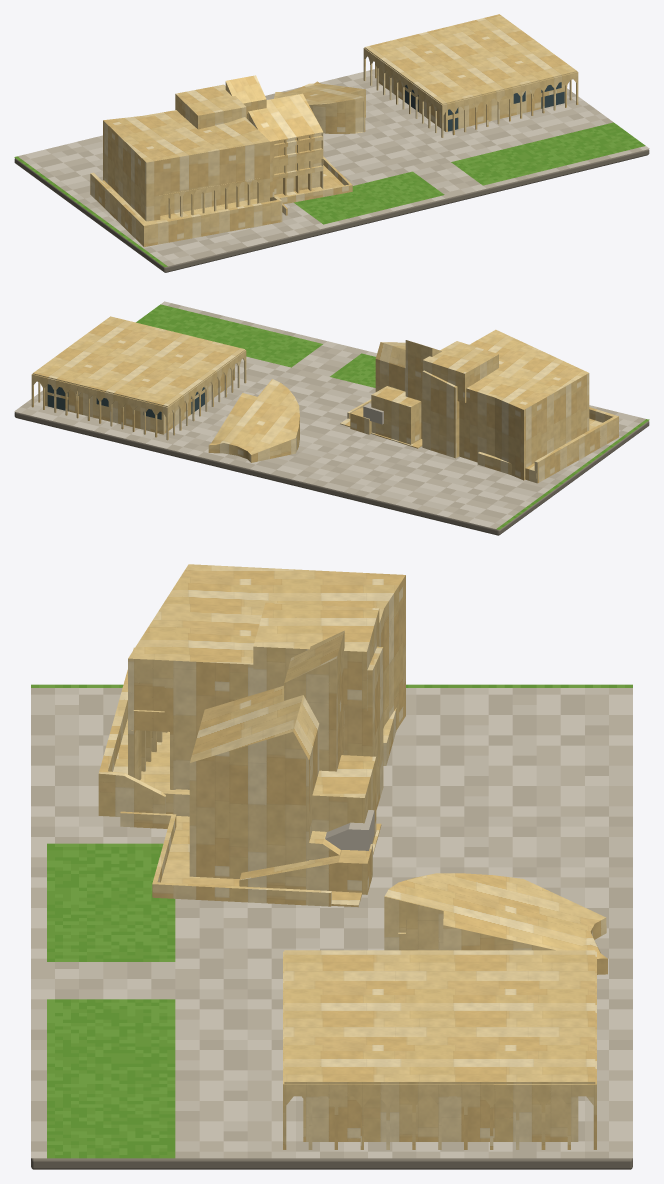
The model's file is lugar_museo-la-tertulia.glb.
3 views of the same model, one above another, from view 1: azimuth 30°, elevation 25°; view 2: azimuth 150°, elevation 25°; view 3: azimuth 270°, elevation 25° (orthographic). The views are drawn at different scales.
Visible parts, largest first — view 1: suelo_pasto_y_camino, Cube.001, techo.001, Cube.002, Cube.006, Cube.014, Cube.020, Cube, Cube.005, columnas, columnas.001, Cube.004 (+4 smaller); view 2: suelo_pasto_y_camino, Cube.001, techo.001, Cube, Cube.014, Cube.020, Cube.005, Cube.006, Cube.003, columas, columnas.001, Cube.002 (+3 smaller); view 3: suelo_pasto_y_camino, techo.001, Cube.001, Cube.002, Cube, Cube.020, Cube.005, columnas.002, Cube.014, Cube.004, Cube.008, Cube.003 (+5 smaller).
Boxes of the visible parts, x1=… form: suelo_pasto_y_camino: x1=14, y1=69, x2=649, y2=267; Cube.001: x1=103, y1=110, x2=269, y2=221; techo.001: x1=364, y1=14, x2=577, y2=104; Cube.002: x1=248, y1=93, x2=323, y2=197; Cube.006: x1=90, y1=172, x2=282, y2=246; Cube.014: x1=14, y1=149, x2=649, y2=272; Cube.020: x1=378, y1=66, x2=564, y2=131; Cube: x1=274, y1=81, x2=365, y2=133; Cube.005: x1=175, y1=84, x2=246, y2=129; columnas: x1=442, y1=72, x2=578, y2=137; columnas.001: x1=363, y1=48, x2=442, y2=137; Cube.004: x1=225, y1=75, x2=266, y2=119; suelo_pasto_y_camino: x1=14, y1=301, x2=649, y2=529; Cube.001: x1=422, y1=329, x2=589, y2=480; techo.001: x1=32, y1=316, x2=245, y2=406; Cube: x1=208, y1=379, x2=299, y2=462; Cube.014: x1=14, y1=412, x2=649, y2=535; Cube.020: x1=45, y1=368, x2=231, y2=434; Cube.005: x1=422, y1=341, x2=498, y2=403; Cube.006: x1=534, y1=407, x2=618, y2=483; Cube.003: x1=371, y1=386, x2=421, y2=444; columas: x1=31, y1=374, x2=167, y2=440; columnas.001: x1=166, y1=350, x2=246, y2=439; Cube.002: x1=375, y1=342, x2=405, y2=391; suelo_pasto_y_camino: x1=31, y1=684, x2=632, y2=1158; techo.001: x1=284, y1=950, x2=595, y2=1083; Cube.001: x1=128, y1=564, x2=405, y2=809; Cube.002: x1=189, y1=685, x2=319, y2=878; Cube: x1=384, y1=873, x2=607, y2=974; Cube.020: x1=303, y1=1096, x2=578, y2=1141; Cube.005: x1=253, y1=602, x2=379, y2=711; columnas.002: x1=283, y1=1083, x2=596, y2=1149; Cube.014: x1=31, y1=1158, x2=632, y2=1169; Cube.004: x1=284, y1=630, x2=344, y2=771; Cube.008: x1=120, y1=811, x2=331, y2=906; Cube.003: x1=312, y1=755, x2=376, y2=843.
Size of the model in its own units: 42.28 by 8.46 by 22.7.
11 materials, 1 textured.
